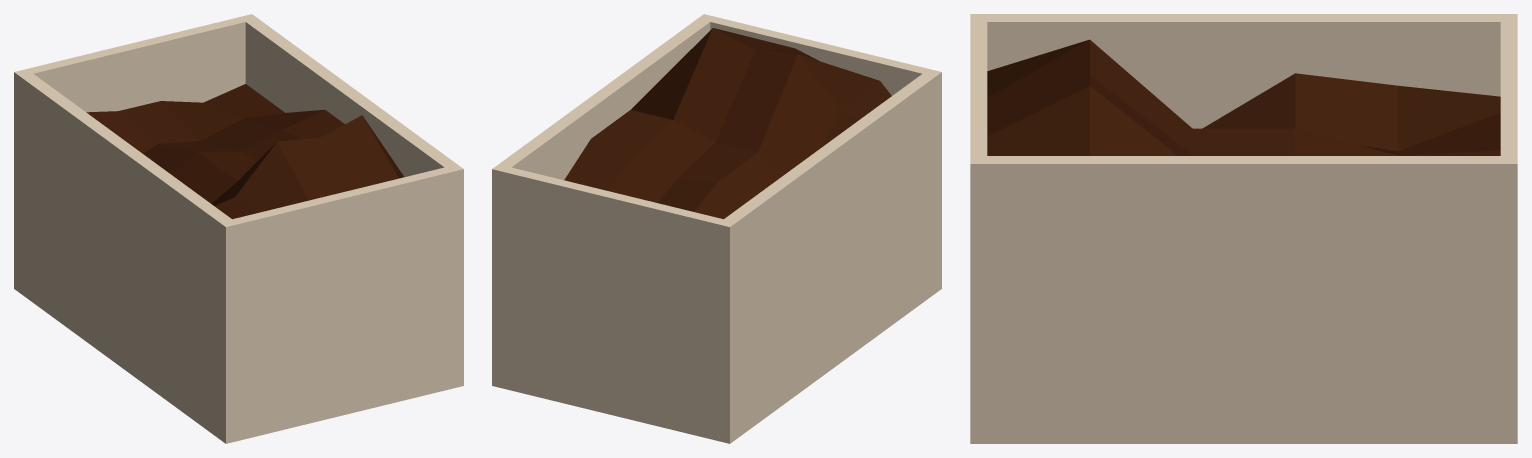
Rendered from Ice_cream_box_3.fbx.
3 renders of one model, left to right at view 1: azimuth 30°, elevation 25°; view 2: azimuth 150°, elevation 25°; view 3: azimuth 270°, elevation 25°, orthographic. The views are drawn at different scales.
Visible parts, largest first — view 1: Ice_cream_box_3; view 2: Ice_cream_box_3; view 3: Ice_cream_box_3.
Boxes of the visible parts, box(x1,y1,x2,y2) form: Ice_cream_box_3: box(14, 14, 463, 443); Ice_cream_box_3: box(492, 14, 941, 443); Ice_cream_box_3: box(970, 14, 1517, 443).
Bounding box in the file's own units: 25.15 × 25.28 × 38.79.
